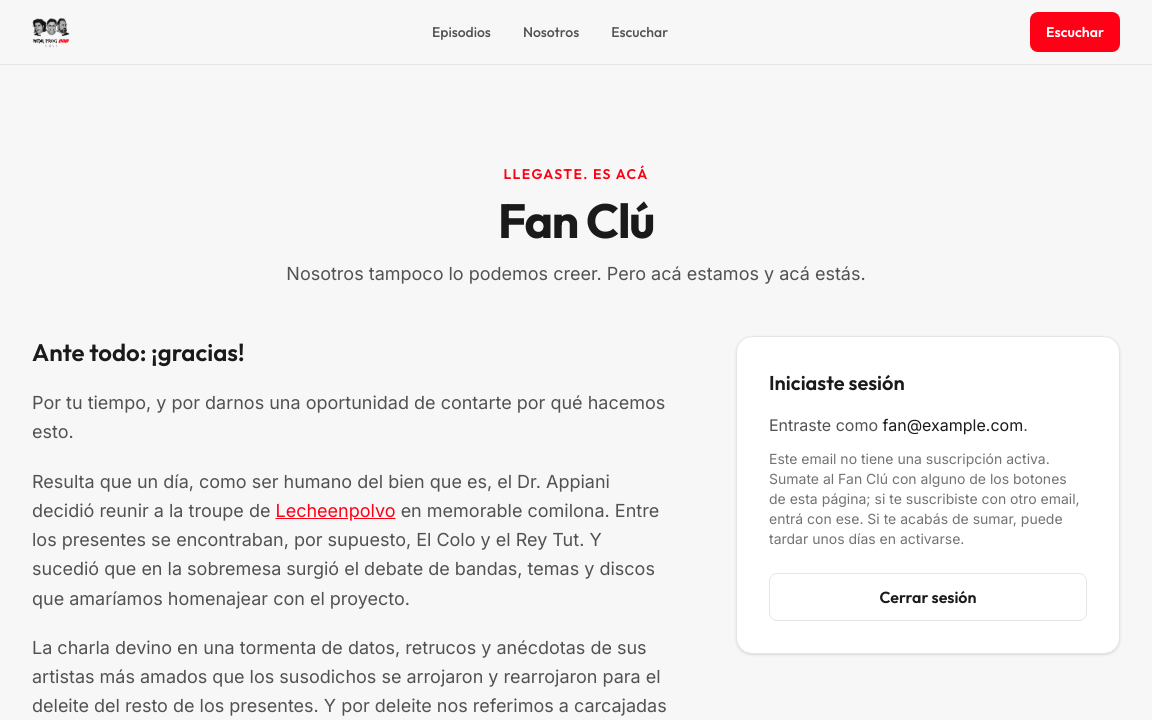
Test: FanCluPage › tells signed-in fans without an active subscription how to join
The image size is (1152, 720).
expect the text "fan@example.com" is shown: met, box [882,415,1023,435]
expect the text "no tiene una suscripción activa" is shown: met, box [769,450,1080,547]
Click the button "Cerrar sesión" at (928, 597), box [769,573,1087,621]
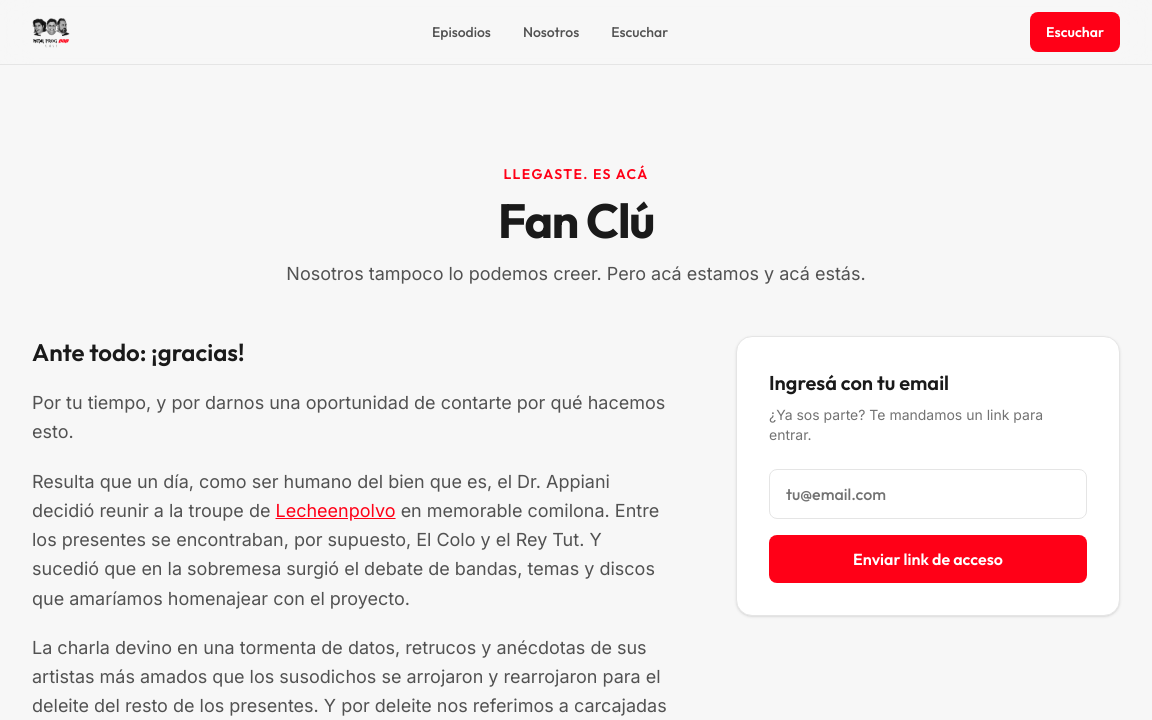
expect the field with placeholder "tu@email.com" is shown: met, box [769,469,1087,519]
